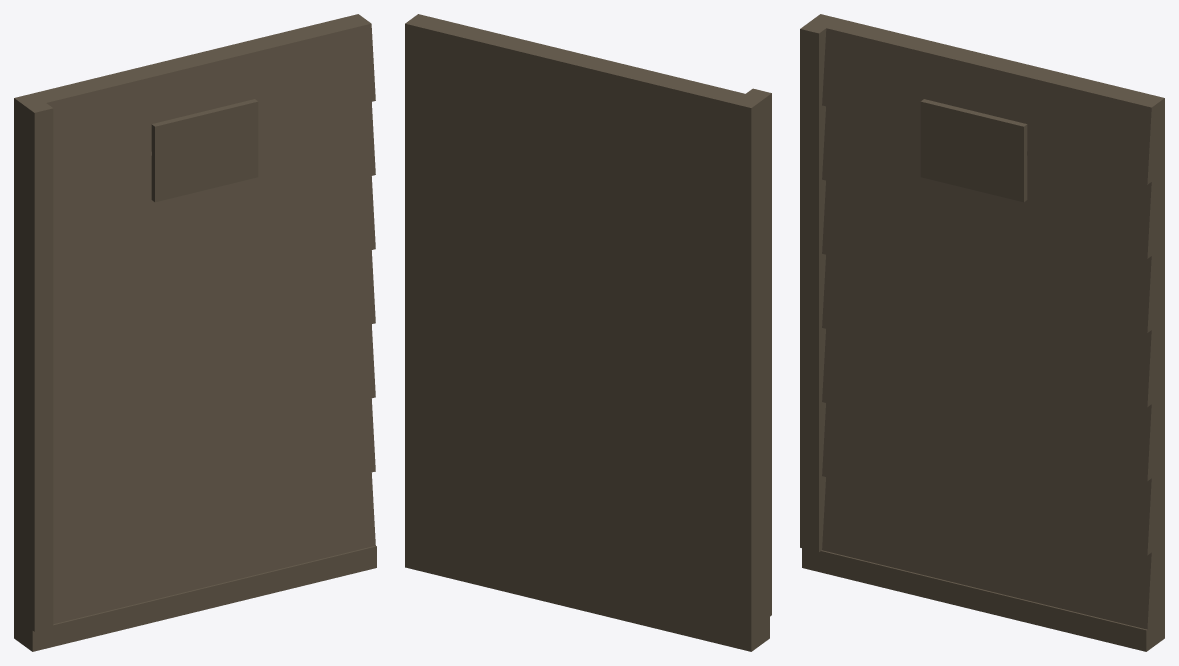
Rendered from mid-w1.fbx.
3 renders of one model, left to right at view 1: azimuth 30°, elevation 25°; view 2: azimuth 150°, elevation 25°; view 3: azimuth 330°, elevation 25°, orthographic.
Visible parts, largest first — view 1: a2015_mid-w1; view 2: a2015_mid-w1; view 3: a2015_mid-w1.
Part boxes in pixels (<box>): a2015_mid-w1: <box>14,14,376,651</box>; a2015_mid-w1: <box>405,14,771,651</box>; a2015_mid-w1: <box>800,14,1164,651</box>.
Size of the model in its own units: 2 by 3 by 0.205.
